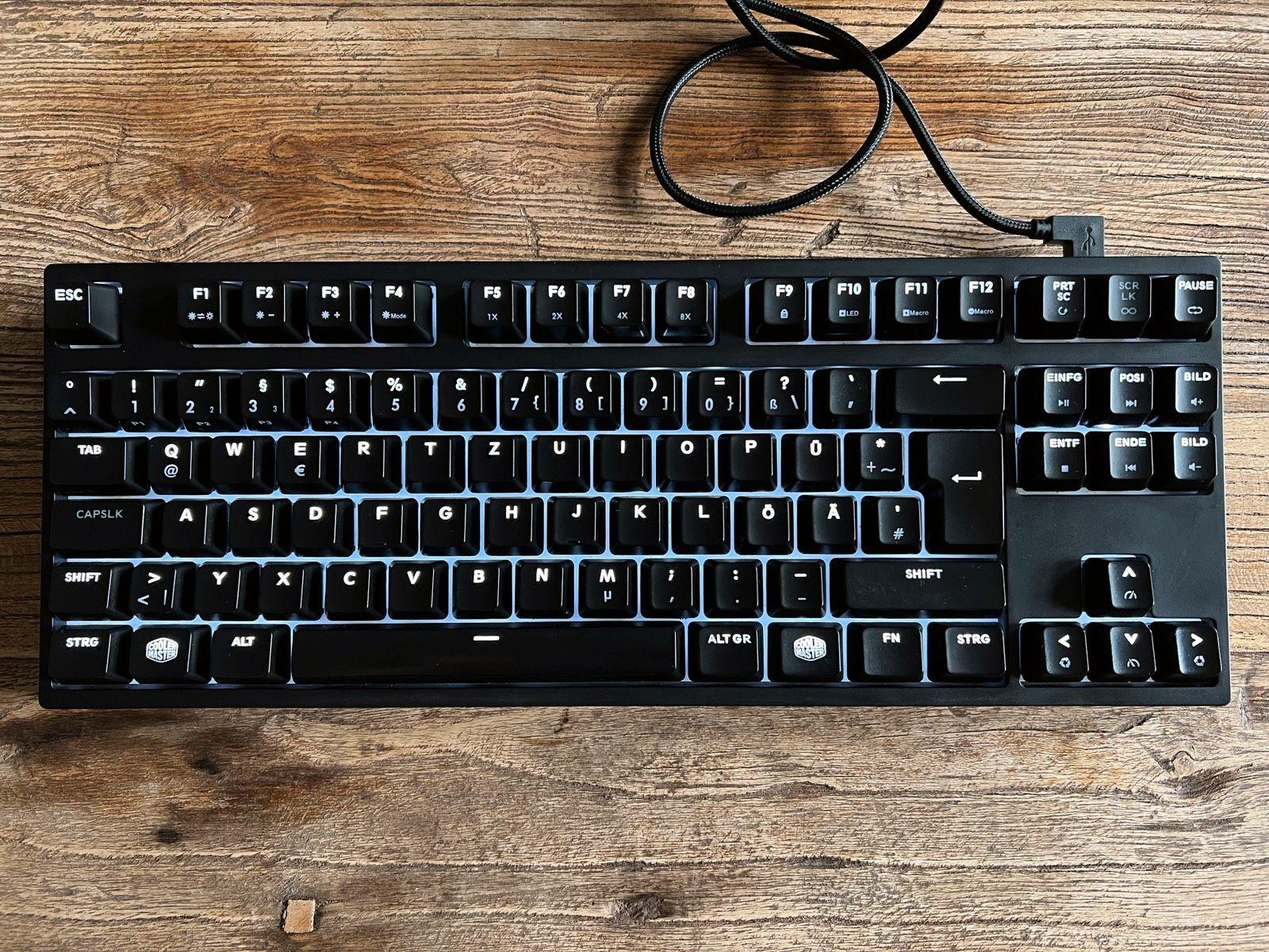0: (692, 364, 745, 428)
1: (108, 369, 155, 420)
2: (176, 367, 221, 424)
3: (238, 367, 284, 422)
4: (305, 366, 355, 419)
5: (369, 366, 423, 426)
6: (435, 366, 495, 427)
7: (498, 366, 553, 424)
8: (562, 366, 619, 428)
9: (624, 365, 681, 426)
a: (160, 498, 205, 548)
accent: (824, 363, 871, 417)
ae: (809, 491, 854, 544)
alt-left: (209, 620, 274, 678)
altgr-right: (690, 618, 762, 678)
b: (450, 555, 509, 614)
c: (324, 557, 375, 614)
caret: (47, 371, 91, 419)
comma: (643, 555, 697, 612)
d: (291, 494, 335, 549)
del: (891, 364, 1004, 414)
e: (275, 432, 322, 484)
enter: (916, 426, 1003, 550)
f: (358, 495, 403, 550)
g: (420, 494, 467, 548)
h: (484, 493, 535, 547)
hash: (873, 492, 919, 547)
i: (595, 431, 647, 481)
j: (550, 492, 596, 547)
k: (611, 493, 665, 548)
keyboard: (36, 252, 1234, 712)
l: (676, 492, 727, 547)
less: (128, 558, 174, 612)
m: (577, 555, 636, 613)
minus: (774, 556, 823, 610)
n: (513, 555, 571, 613)
o: (660, 431, 712, 482)
oe: (744, 493, 790, 546)
p: (727, 429, 773, 479)
plus: (856, 428, 902, 481)
point: (711, 555, 760, 610)
q: (145, 432, 192, 486)
r: (339, 431, 393, 485)
s: (228, 497, 271, 547)
shift-left: (47, 560, 110, 614)
shift-lock: (49, 495, 143, 551)
shift-right: (839, 554, 1005, 611)
space: (289, 620, 682, 681)
ss: (754, 363, 807, 424)
strg-left: (45, 624, 114, 679)
strg-right: (939, 619, 1006, 675)
t: (405, 432, 456, 486)
tab: (48, 436, 125, 483)
u: (531, 432, 583, 482)
ue: (792, 429, 838, 481)
v: (385, 556, 446, 614)
w: (209, 432, 256, 485)
x: (259, 559, 303, 612)
y: (194, 560, 240, 612)
z: (467, 432, 518, 482)
